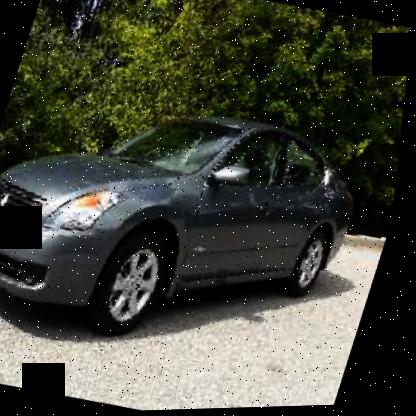not_emergency: (0, 47, 407, 363)
